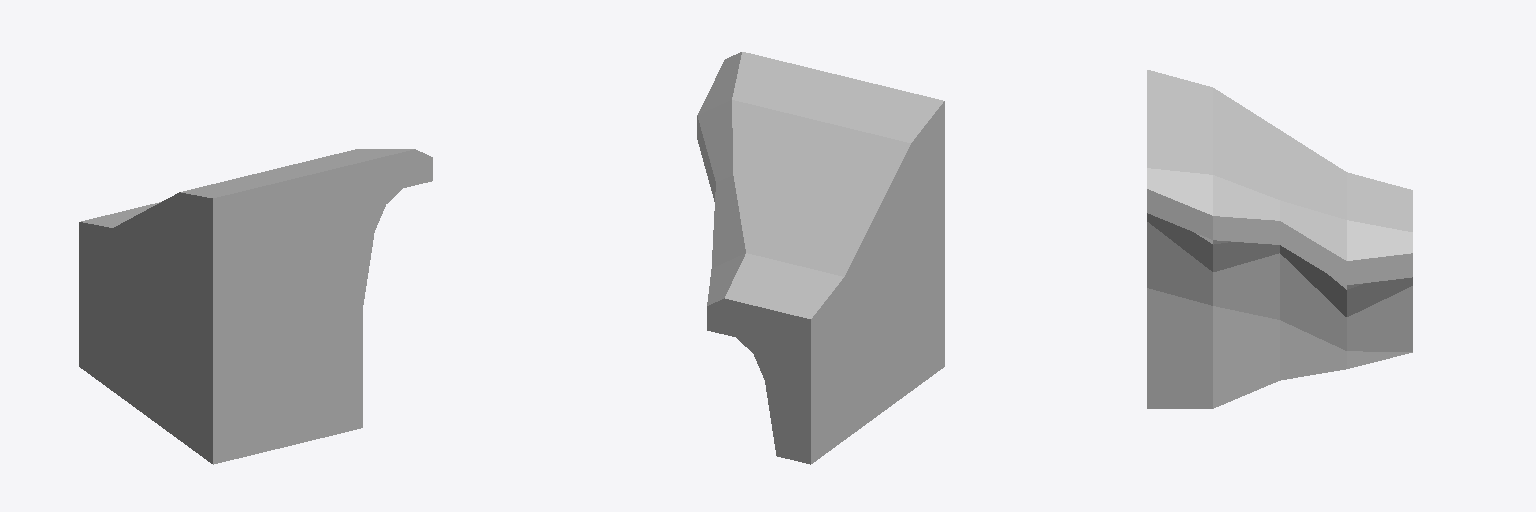
The model's file is Cliff_Top_Waterfall.obj.
3 renders of one model, left to right at view 1: azimuth 30°, elevation 25°; view 2: azimuth 150°, elevation 25°; view 3: azimuth 270°, elevation 25°, orthographic.
Visible parts, largest first — view 1: object1; view 2: object1; view 3: object1.
Boxes of the visible parts, <box> form: object1: <box>79,149,432,464</box>; object1: <box>697,52,944,464</box>; object1: <box>1147,70,1412,408</box>.
Size of the model in its own units: 1.9 by 2.2 by 2.